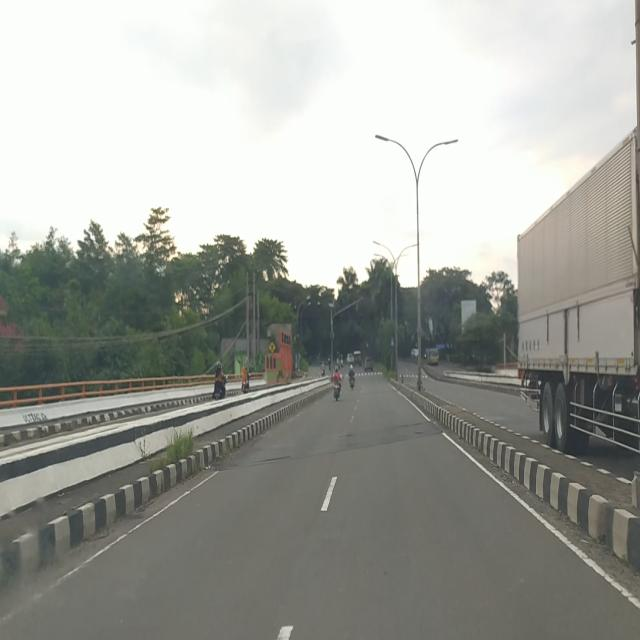Sewer Cover: (219, 450, 320, 470), (341, 422, 430, 436)
